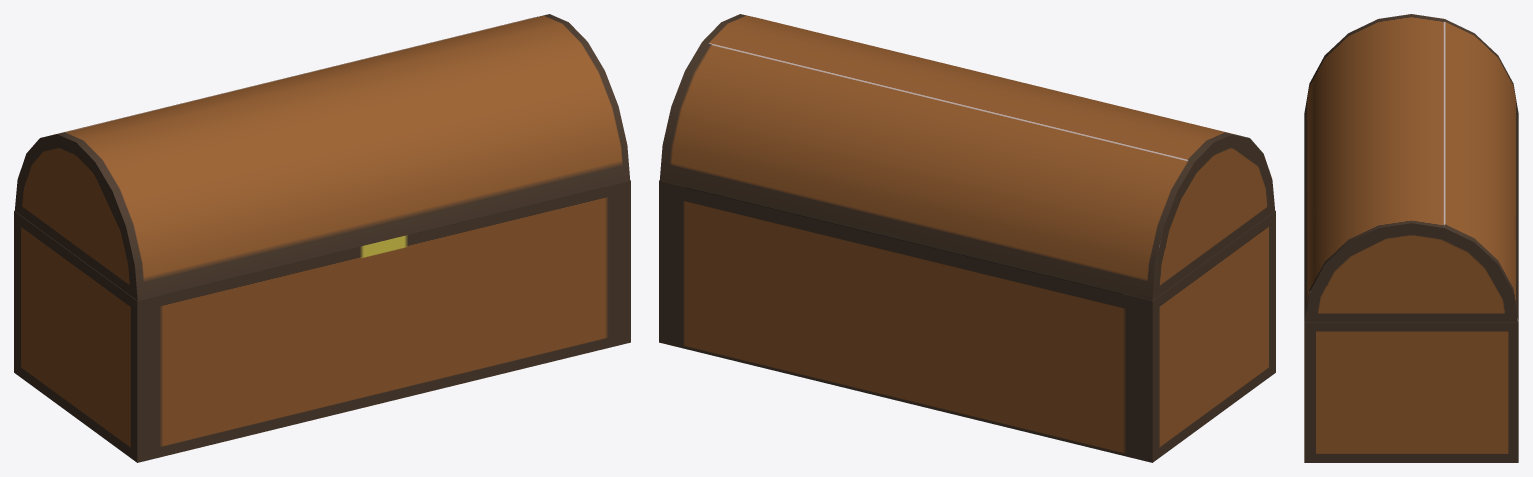
Rendered from Chest.fbx.
The picture shows the model from 3 angles, left to right: view 1: azimuth 30°, elevation 25°; view 2: azimuth 150°, elevation 25°; view 3: azimuth 270°, elevation 25°; orthographic projection. The views are drawn at different scales.
Parts seen in each view (by area): view 1: pasted__Lid, Trunk; view 2: pasted__Lid, Trunk; view 3: pasted__Lid, Trunk.
Boxes of the visible parts, x1,y1,x2,y2 form: pasted__Lid: (14, 14, 630, 300); Trunk: (14, 180, 630, 462); pasted__Lid: (659, 14, 1275, 300); Trunk: (659, 180, 1275, 462); pasted__Lid: (1304, 14, 1518, 321); Trunk: (1304, 322, 1518, 462).
Bounding box in the file's own units: 2.31 × 1.23 × 1.
Materials: 3 (2 with a texture image).
